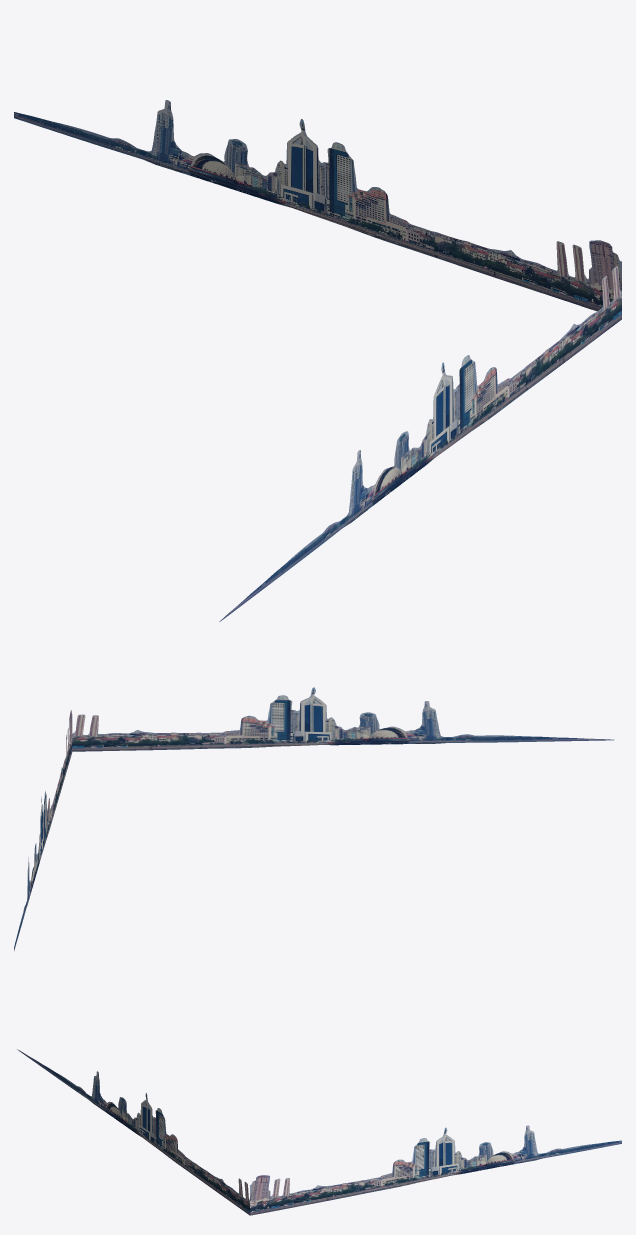
Rendered from TIANKONG.FBX.
3 views of the same model, one above another, from view 1: azimuth 30°, elevation 25°; view 2: azimuth 150°, elevation 25°; view 3: azimuth 270°, elevation 25° (orthographic). The views are drawn at different scales.
Parts seen in each view (by area): view 1: Line001; view 2: Line001; view 3: Line001.
Boxes of the visible parts, left/top/right/bottom form: Line001: left=14, top=100, right=621, bottom=621; Line001: left=14, top=687, right=613, bottom=950; Line001: left=17, top=1049, right=621, bottom=1215.
Bounding box in the file's own units: 93083 × 146292 × 17279.
1 material, 1 textured.
